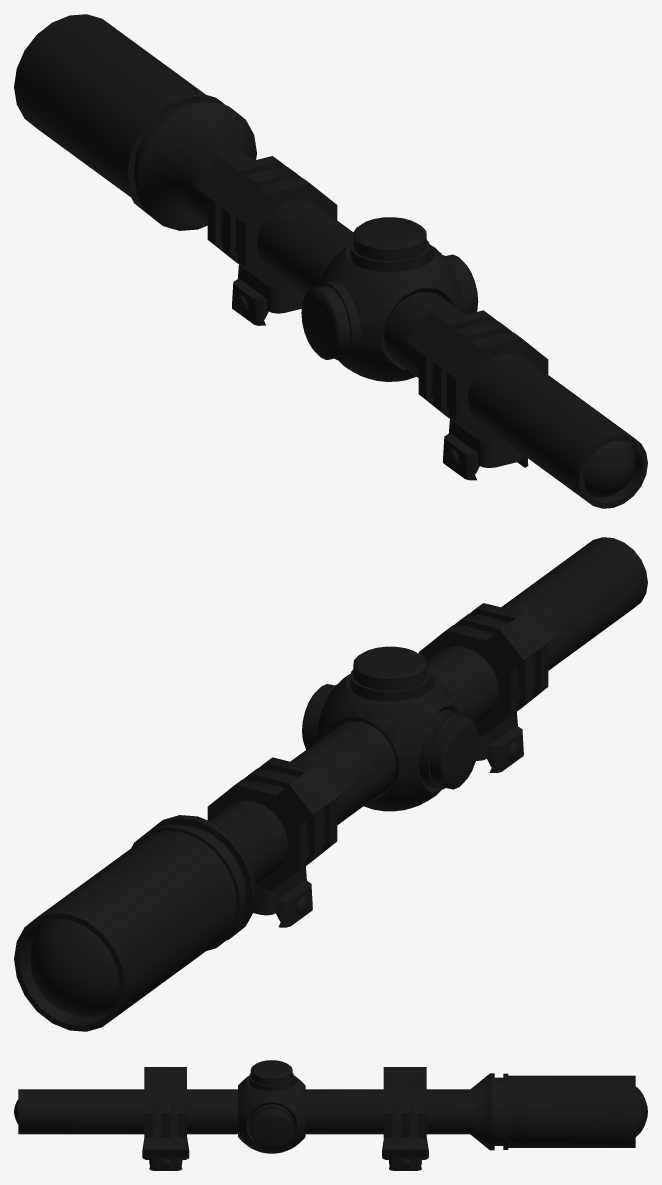
Rendered from 8x_scope_with_balap.glb.
The picture shows the model from 3 angles, top to bottom: view 1: azimuth 30°, elevation 25°; view 2: azimuth 150°, elevation 25°; view 3: azimuth 270°, elevation 25°; orthographic projection. The views are drawn at different scales.
Visible parts, largest first — view 1: pSphere19; view 2: pSphere19; view 3: pSphere19.
Part boxes in pixels (bbox=[...]): pSphere19: bbox=[14, 14, 647, 508]; pSphere19: bbox=[14, 537, 647, 1031]; pSphere19: bbox=[14, 1060, 647, 1170].
Size of the model in its own units: 5.48 by 5.97 by 36.67.
Materials: 2 (2 with a texture image).
